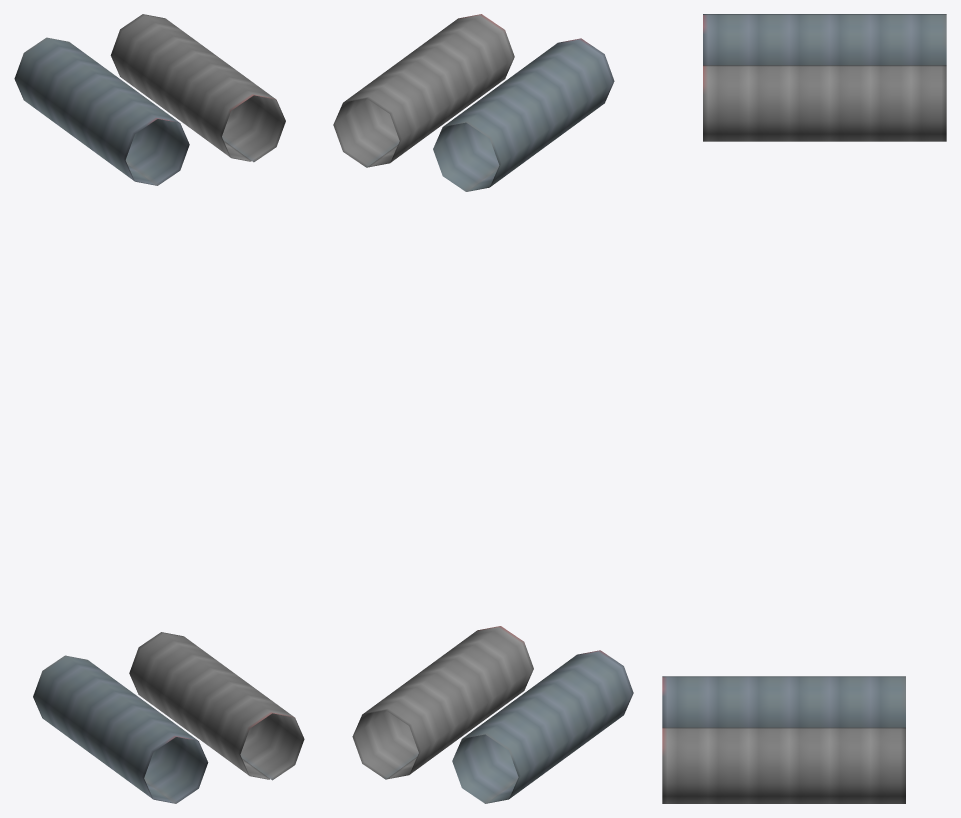
File: huge_rope.obj
The picture shows the model from 3 angles, left to right: view 1: azimuth 30°, elevation 25°; view 2: azimuth 150°, elevation 25°; view 3: azimuth 270°, elevation 25°; orthographic projection. The views are drawn at different scales.
Parts seen in each view (by area): view 1: huge_rope; view 2: huge_rope; view 3: huge_rope.
Part boxes in pixels (bbox=[...]): huge_rope: bbox=[14, 14, 304, 803]; huge_rope: bbox=[333, 14, 633, 803]; huge_rope: bbox=[662, 14, 946, 803].
Size of the model in its own units: 1.25 by 5 by 1.75.
